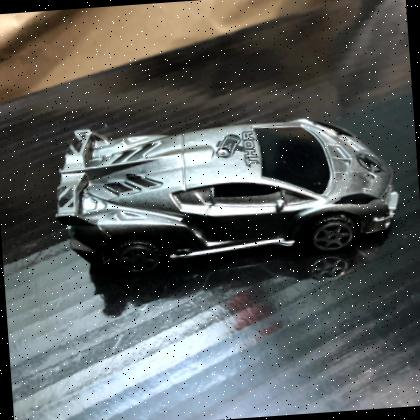Car: (55, 119, 400, 276)
